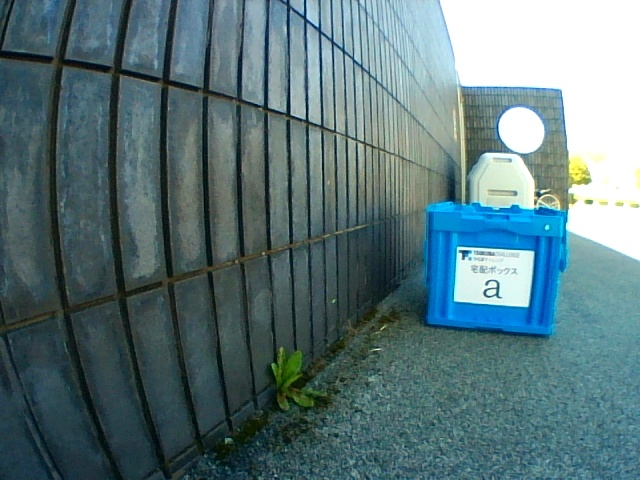blue_box: (426, 202, 567, 337)
tag_a: (459, 252, 529, 302)
